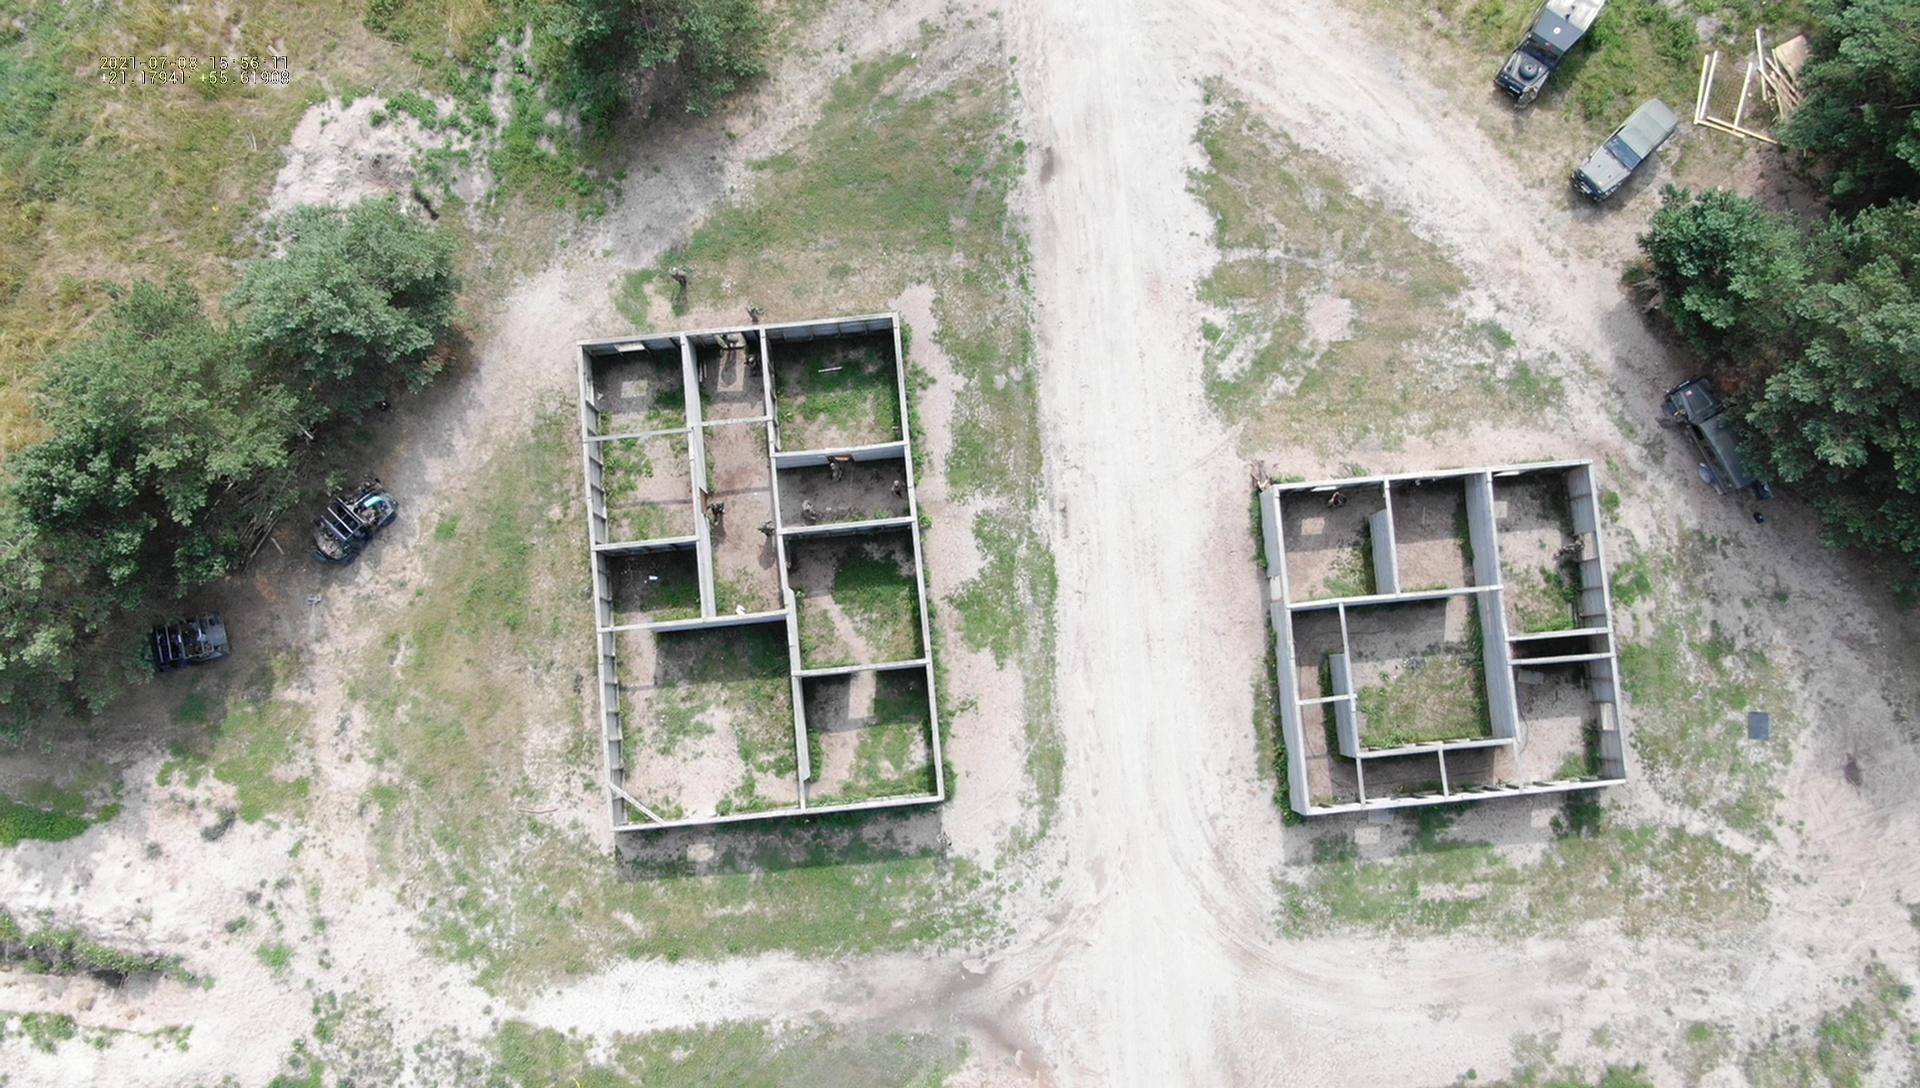Soldier: (1097, 721, 1247, 901), (953, 138, 1062, 295), (1033, 957, 1116, 1060), (363, 444, 458, 530), (1402, 162, 1493, 244), (248, 601, 331, 686), (686, 49, 783, 119), (839, 520, 910, 611), (1038, 208, 1104, 299), (368, 377, 452, 443)
